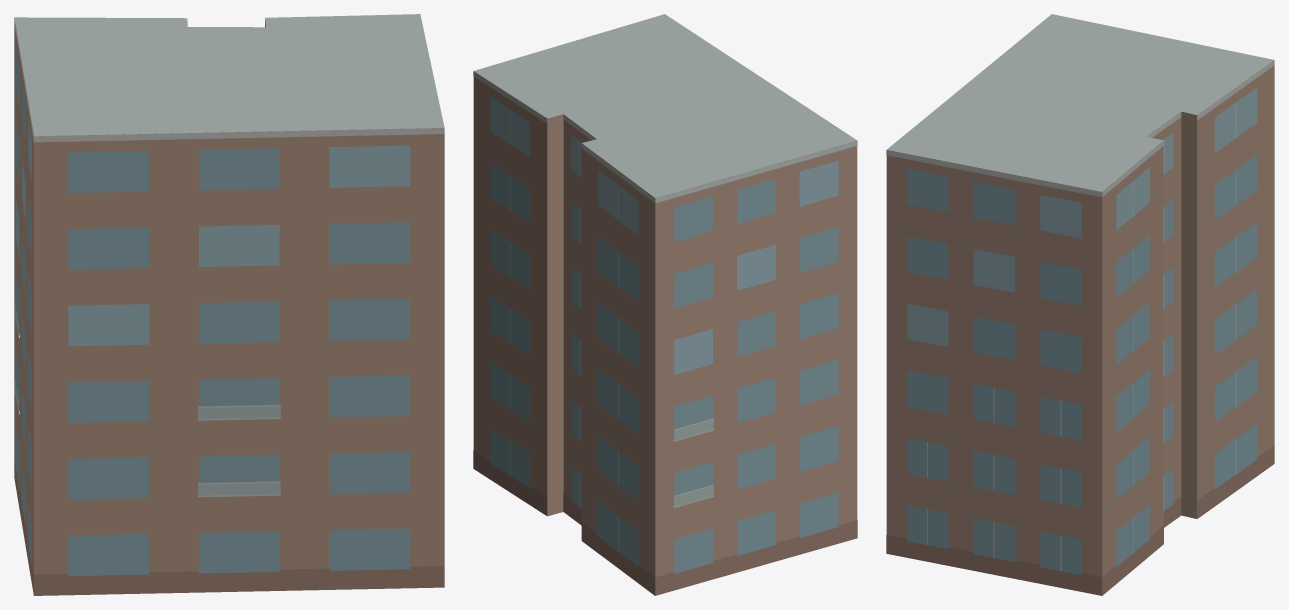
The model's file is survey-upis-32947213.glb.
The picture shows the model from 3 angles, left to right: view 1: azimuth 30°, elevation 25°; view 2: azimuth 150°, elevation 25°; view 3: azimuth 270°, elevation 25°; orthographic projection. The views are drawn at different scales.
Visible parts, largest first — view 1: survey-upis-32947213.tmp; view 2: survey-upis-32947213.tmp; view 3: survey-upis-32947213.tmp.
Boxes of the visible parts, box(x1,y1,x2,y2) form: survey-upis-32947213.tmp: box(14, 14, 444, 595); survey-upis-32947213.tmp: box(473, 14, 857, 595); survey-upis-32947213.tmp: box(886, 14, 1274, 595).
Bounding box in the file's own units: 17.3 × 18.3 × 15.94.
